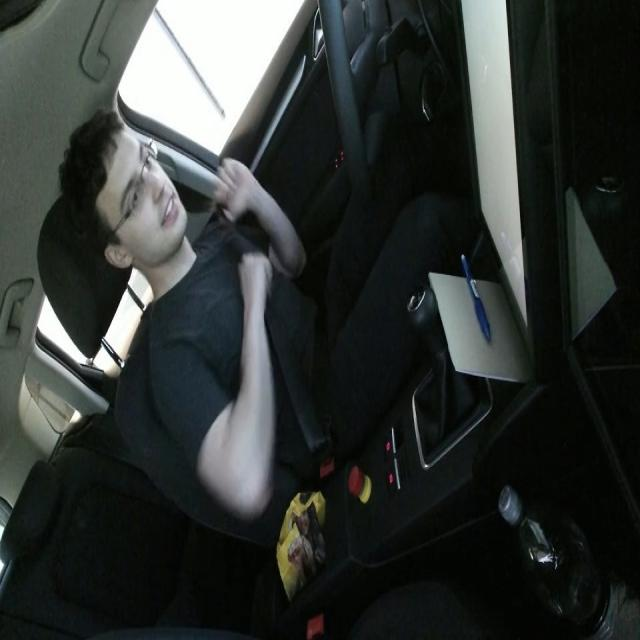pen: (459, 250, 492, 344)
